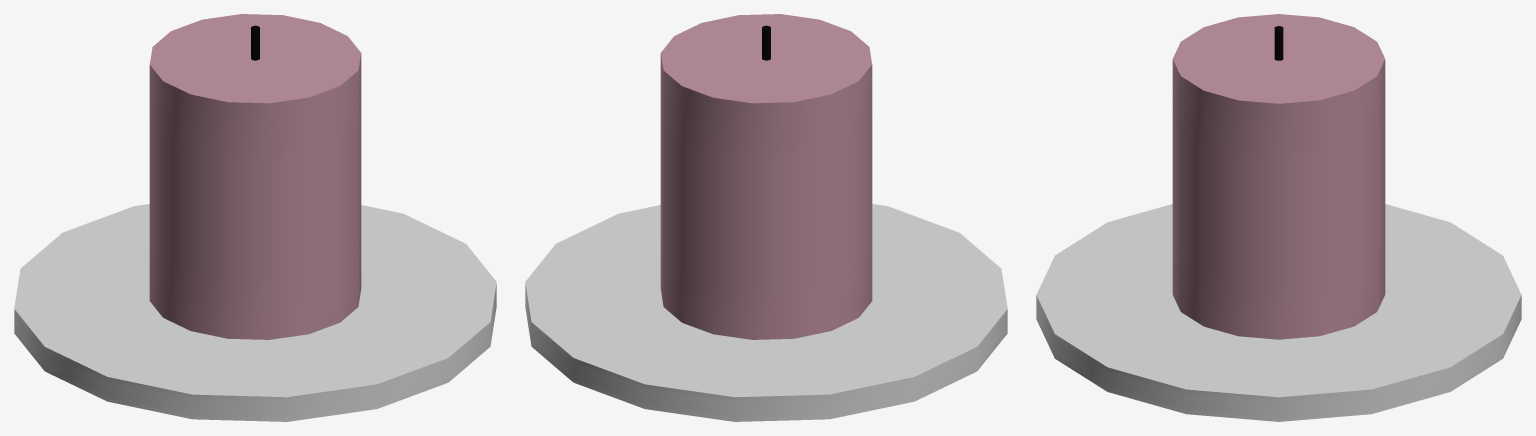
File: vela.glb
The picture shows the model from 3 angles, left to right: view 1: azimuth 30°, elevation 25°; view 2: azimuth 150°, elevation 25°; view 3: azimuth 270°, elevation 25°; orthographic projection.
Visible parts, largest first — view 1: Cilindro.1, Cilindro; view 2: Cilindro.1, Cilindro; view 3: Cilindro.1, Cilindro.
Boxes of the visible parts, bbox=[...] form: Cilindro.1: bbox=[149, 14, 361, 339]; Cilindro: bbox=[14, 204, 496, 421]; Cilindro.1: bbox=[660, 14, 872, 339]; Cilindro: bbox=[525, 204, 1007, 421]; Cilindro.1: bbox=[1172, 14, 1385, 339]; Cilindro: bbox=[1036, 204, 1521, 421].
Size of what is drawn, in the model's own units: 1.96 by 1.3 by 1.96.
